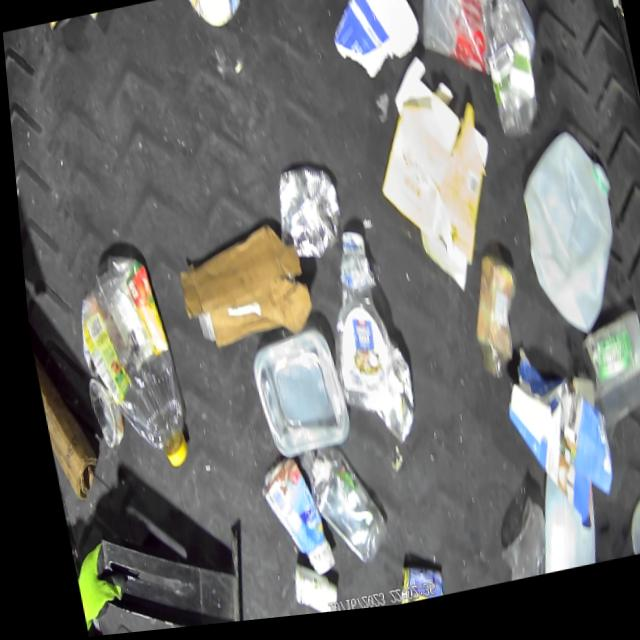can: (263, 165, 343, 271), (356, 346, 415, 456), (184, 0, 253, 40), (379, 563, 434, 612), (44, 16, 92, 37)
milk_jug: (503, 132, 631, 356), (513, 473, 595, 585)
plastic_bottle: (63, 244, 187, 488), (305, 232, 395, 423)
